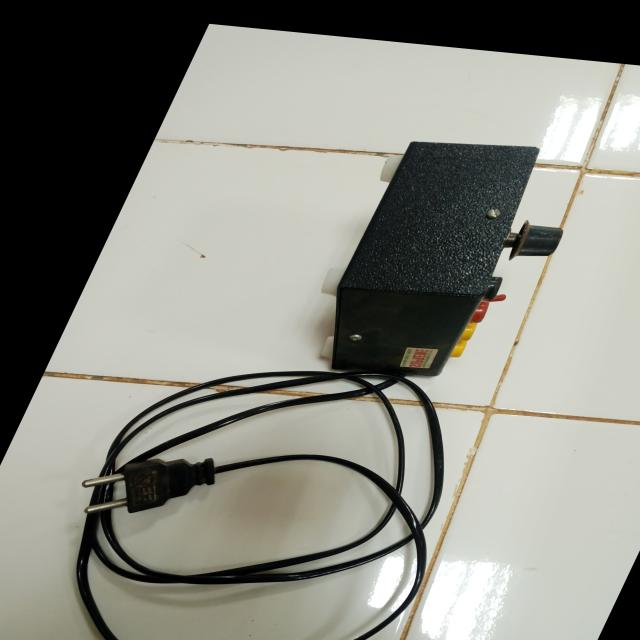Ripple Tank Power Supply: (272, 116, 620, 396)
